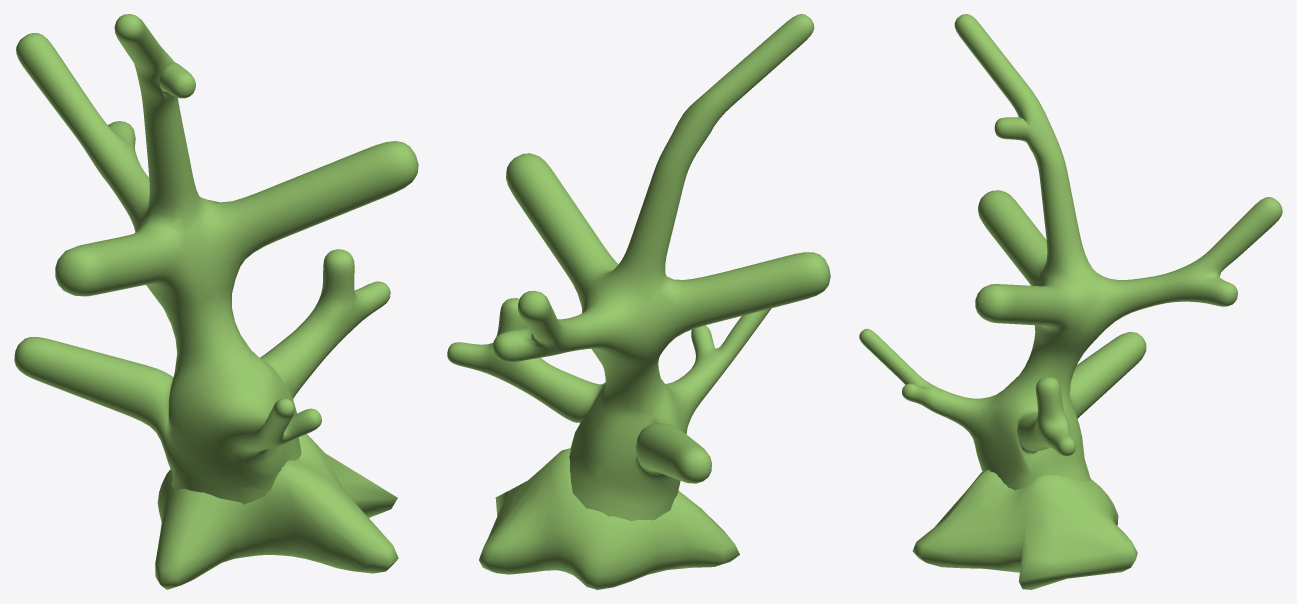
The model's file is coralreef1.glb.
The picture shows the model from 3 angles, left to right: view 1: azimuth 30°, elevation 25°; view 2: azimuth 150°, elevation 25°; view 3: azimuth 270°, elevation 25°; orthographic projection. The views are drawn at different scales.
Visible parts, largest first — view 1: Cube.002; view 2: Cube.002; view 3: Cube.002.
Boxes of the visible parts, x1=… form: Cube.002: x1=14, y1=14, x2=418, y2=589; Cube.002: x1=447, y1=14, x2=830, y2=589; Cube.002: x1=859, y1=14, x2=1282, y2=589.
Bounding box in the file's own units: 1.61 × 2.51 × 2.03.
